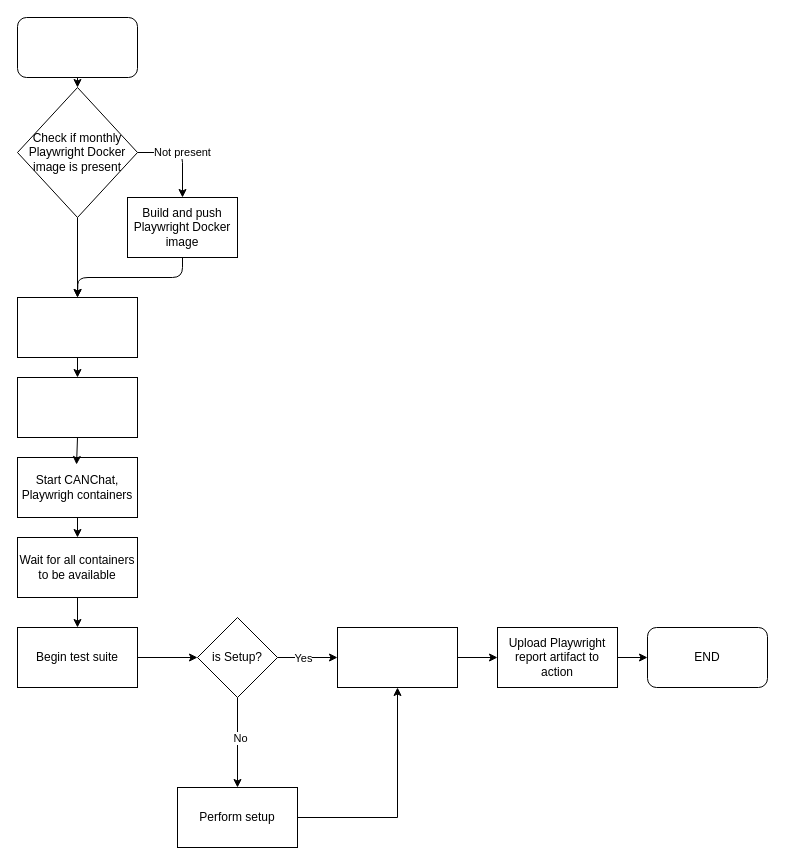
This 785x865 diagram has some shape labels left out. The shapes that lost their labels are listed below. From the top down, each one's centre as x and y in pixels, then its label:
point (77, 47): START
point (77, 327): Start Qdrant service
point (77, 407): Refresh canchat-v2:dev image
point (397, 657): Perform Test Suite
